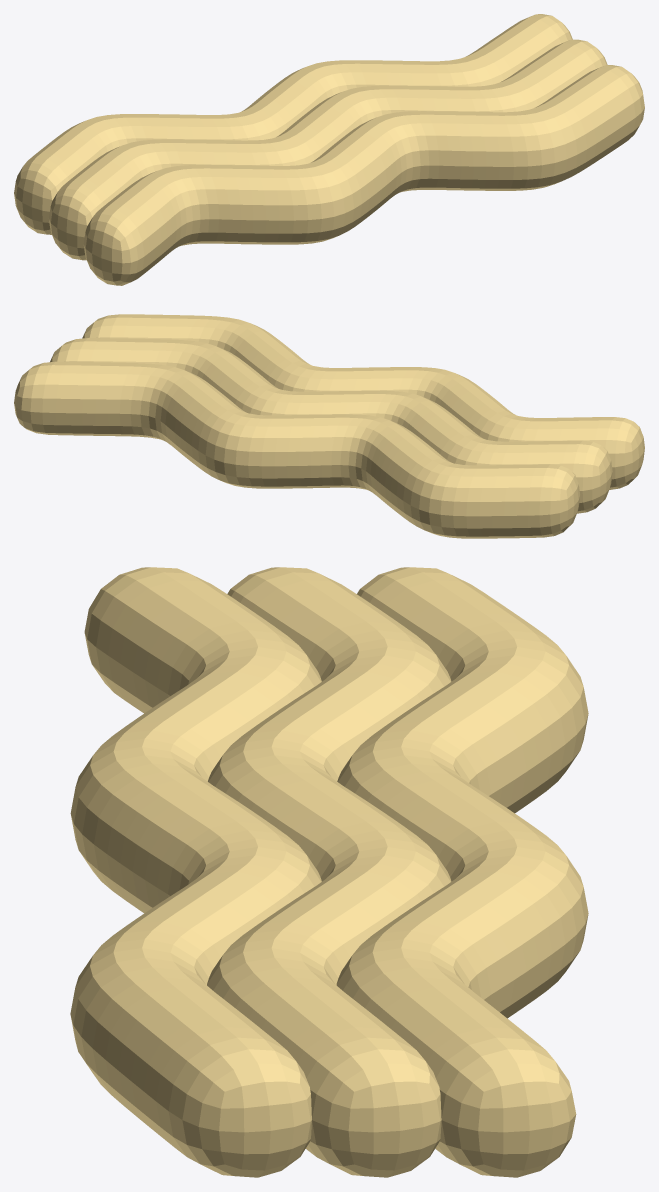
Rendered from noodle.fbx.
3 views of the same model, one above another, from view 1: azimuth 30°, elevation 25°; view 2: azimuth 150°, elevation 25°; view 3: azimuth 270°, elevation 25° (orthographic). The views are drawn at different scales.
Visible parts, largest first — view 1: noodle; view 2: noodle; view 3: noodle.
Part boxes in pixels (x1,y1,x2,y2): noodle: (14,14,644,285); noodle: (14,314,644,538); noodle: (70,567,588,1177).
Bounding box in the file's own units: 256 × 30.7 × 108.
